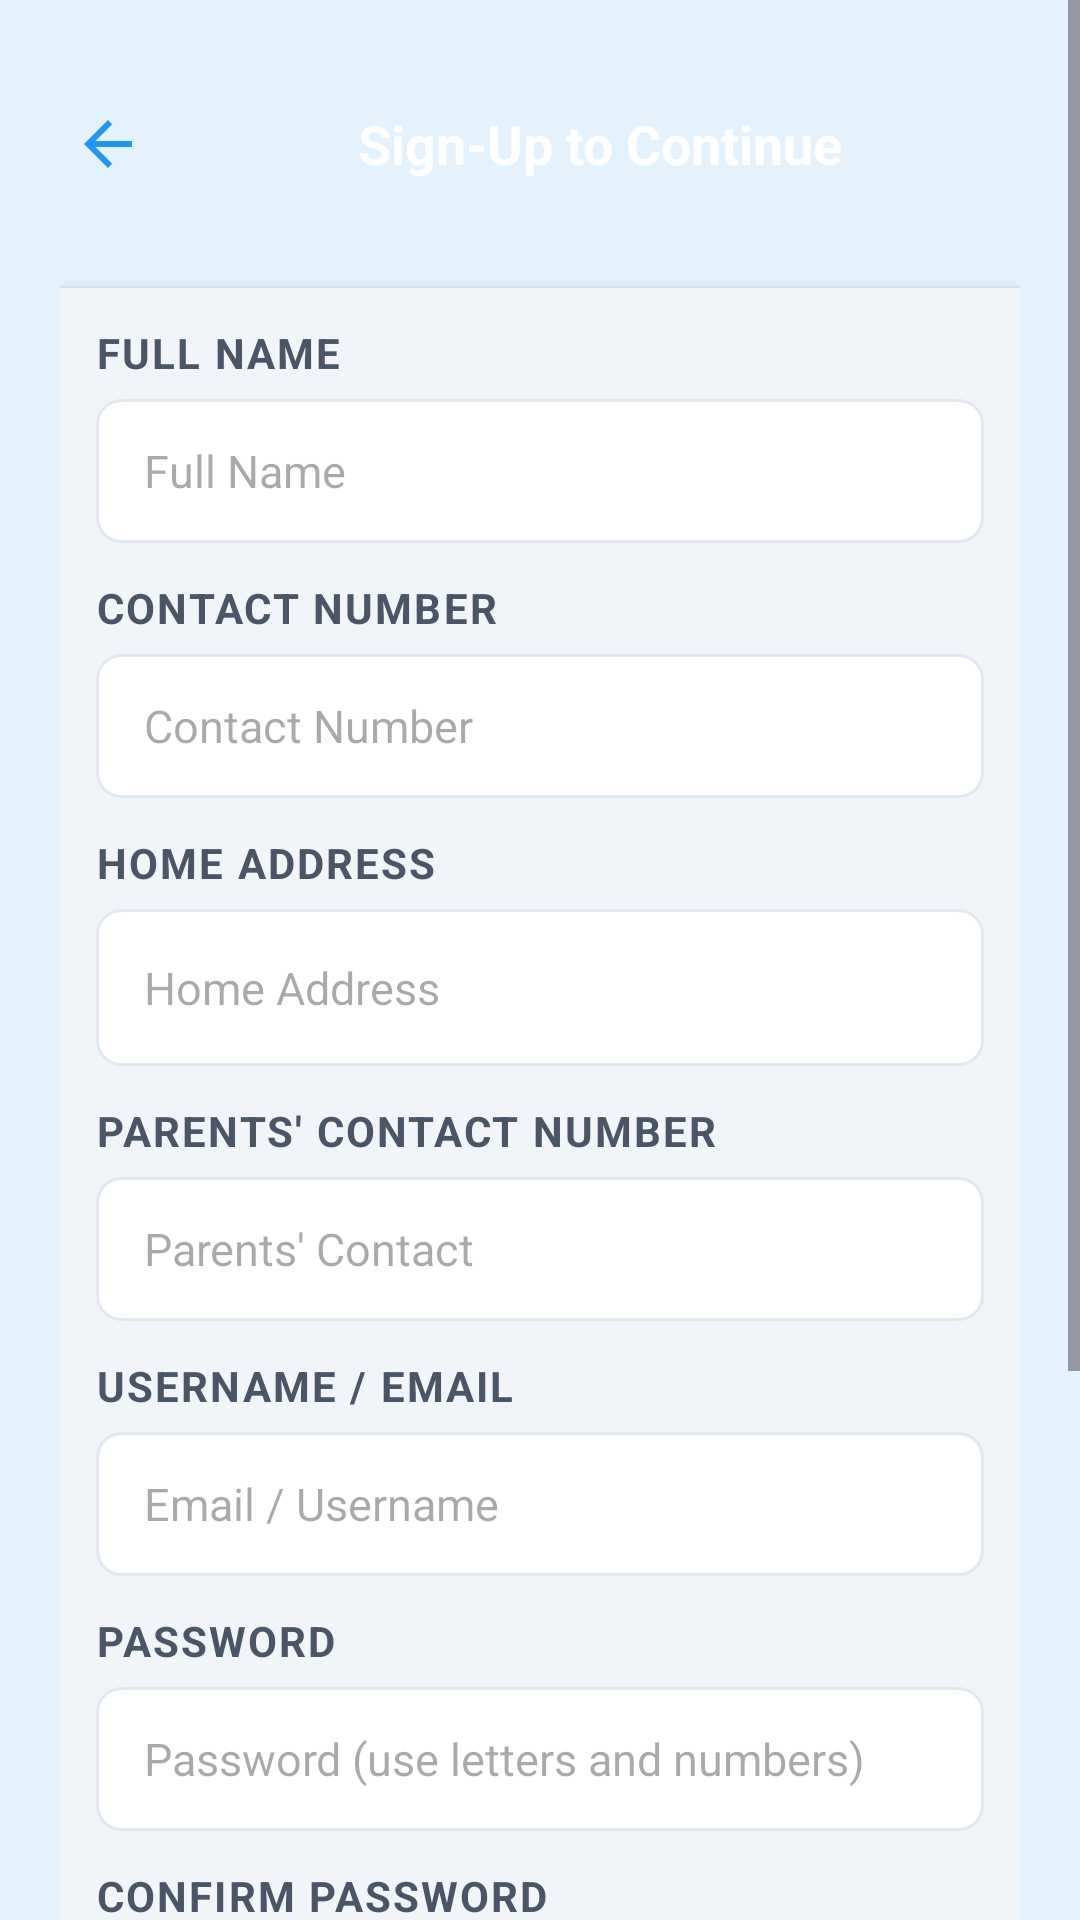

Icon bounding boxes for this 1080×1920 phone screenshot, format Rect(x1, y1, x2, y2):
arrow back: Rect(84, 120, 132, 168)
